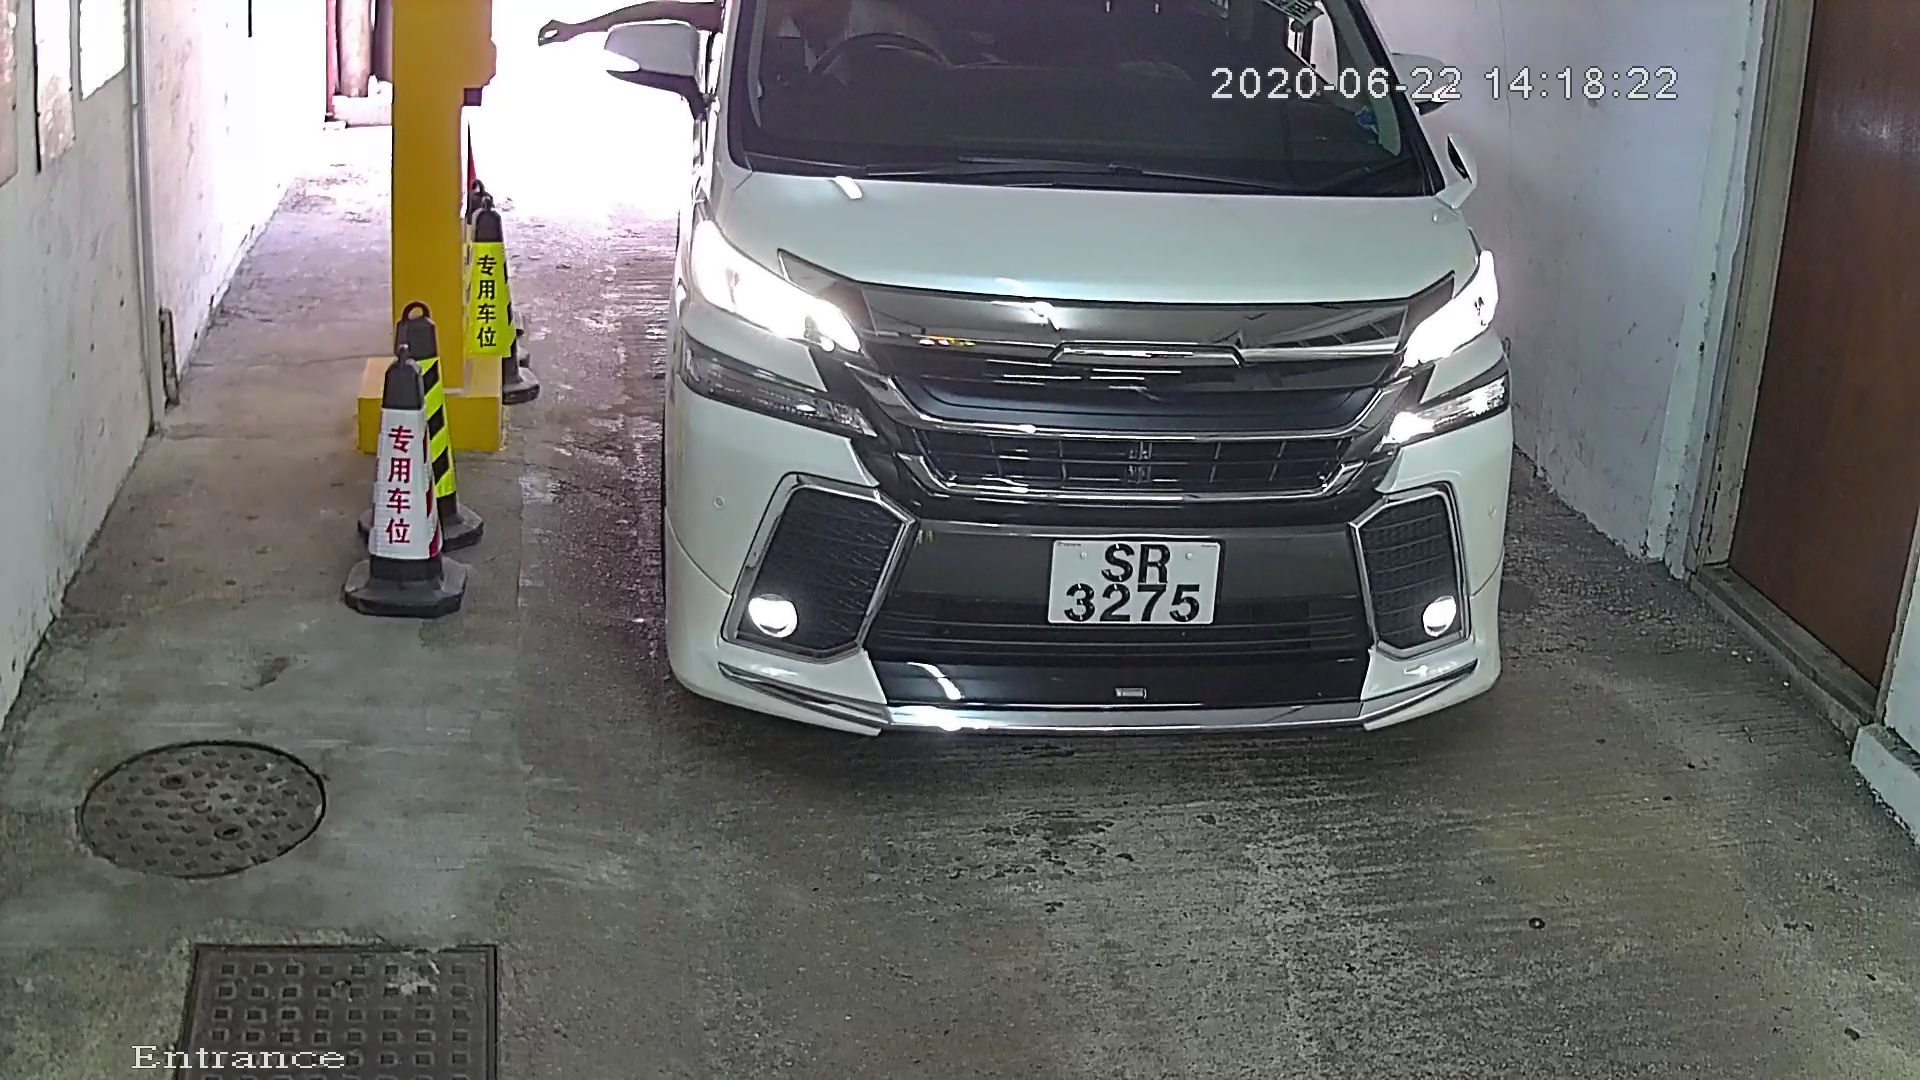privatecar: (593, 3, 1561, 781)
